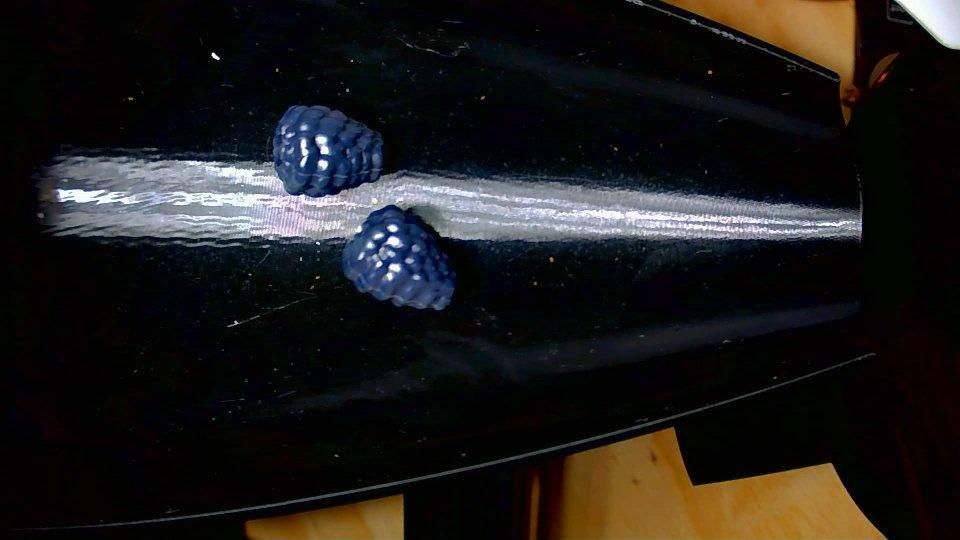berry: (342, 205, 456, 309), (273, 106, 383, 194)
